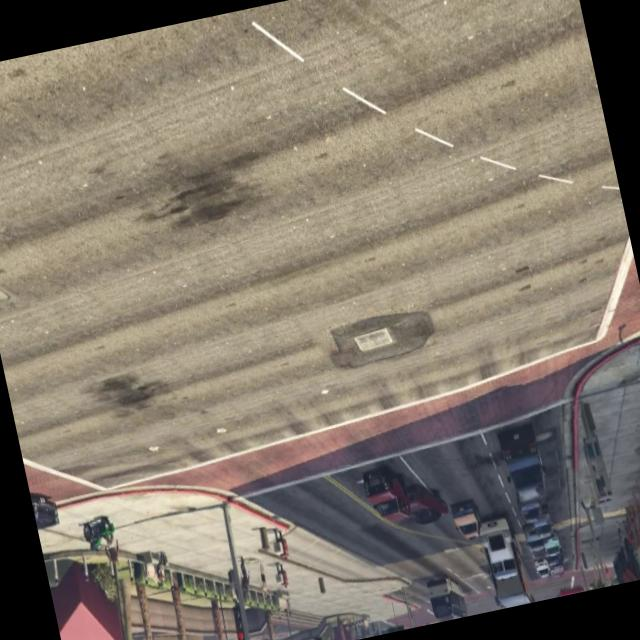Red-Signal: (226, 593, 250, 640), (309, 629, 326, 640)
